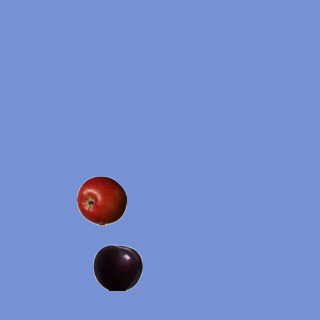Apple Braeburn: (76, 175, 126, 225)
Cherry Wax Black: (92, 242, 142, 292)
